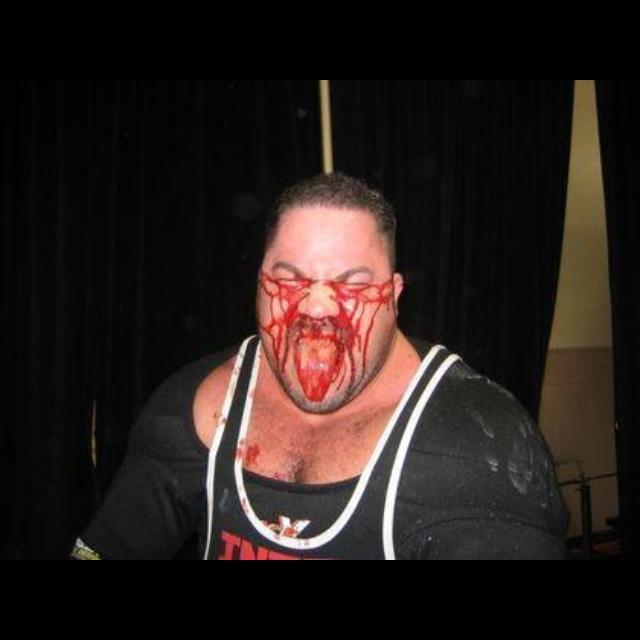blood: (259, 272, 393, 402), (245, 446, 261, 465), (267, 472, 293, 483)
